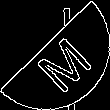M_NW: (21, 21, 89, 89)
